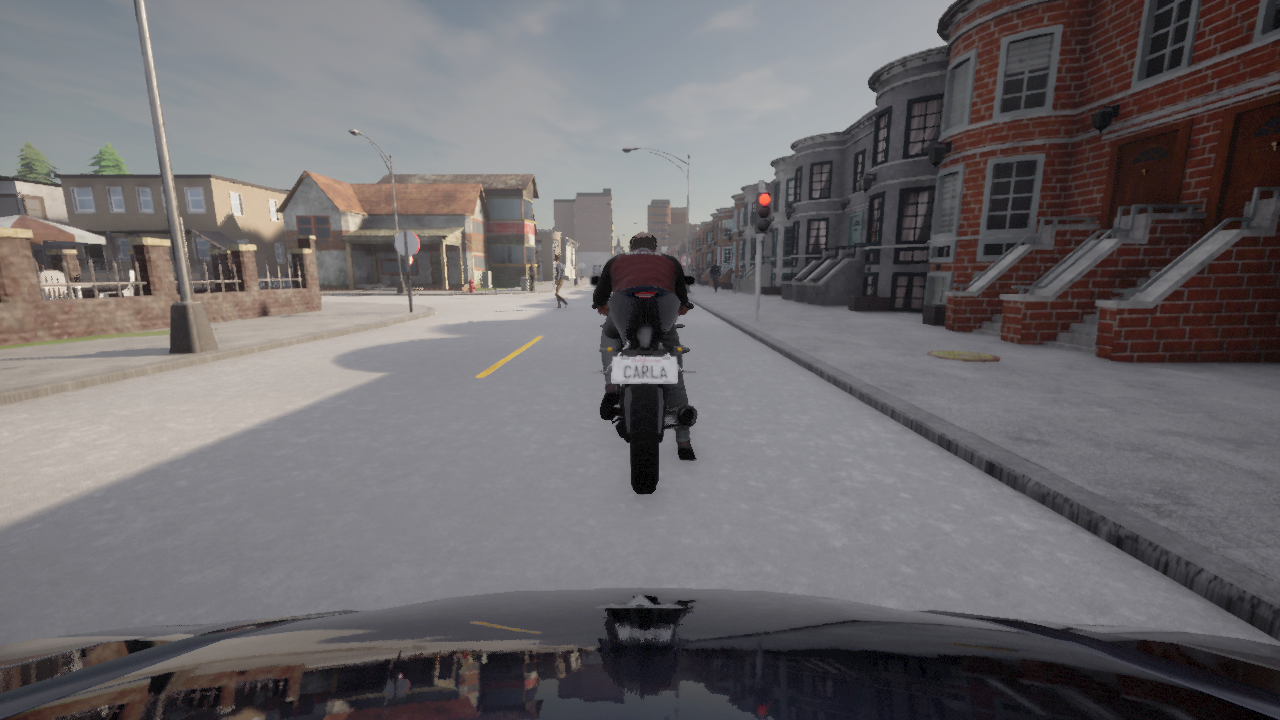cyclist: (0, 588, 1279, 719), (589, 274, 697, 493), (592, 286, 595, 287)
pedestrian: (553, 254, 568, 309), (708, 259, 719, 293), (527, 262, 535, 290), (696, 264, 702, 286)
